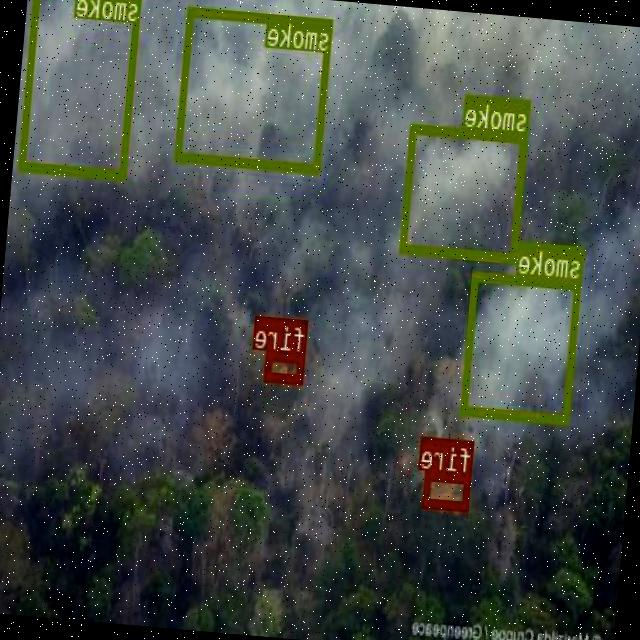fire: (424, 468, 473, 508), (264, 349, 306, 383)
smoke: (176, 5, 334, 172), (20, 0, 142, 177), (461, 270, 582, 422), (401, 122, 528, 261)
